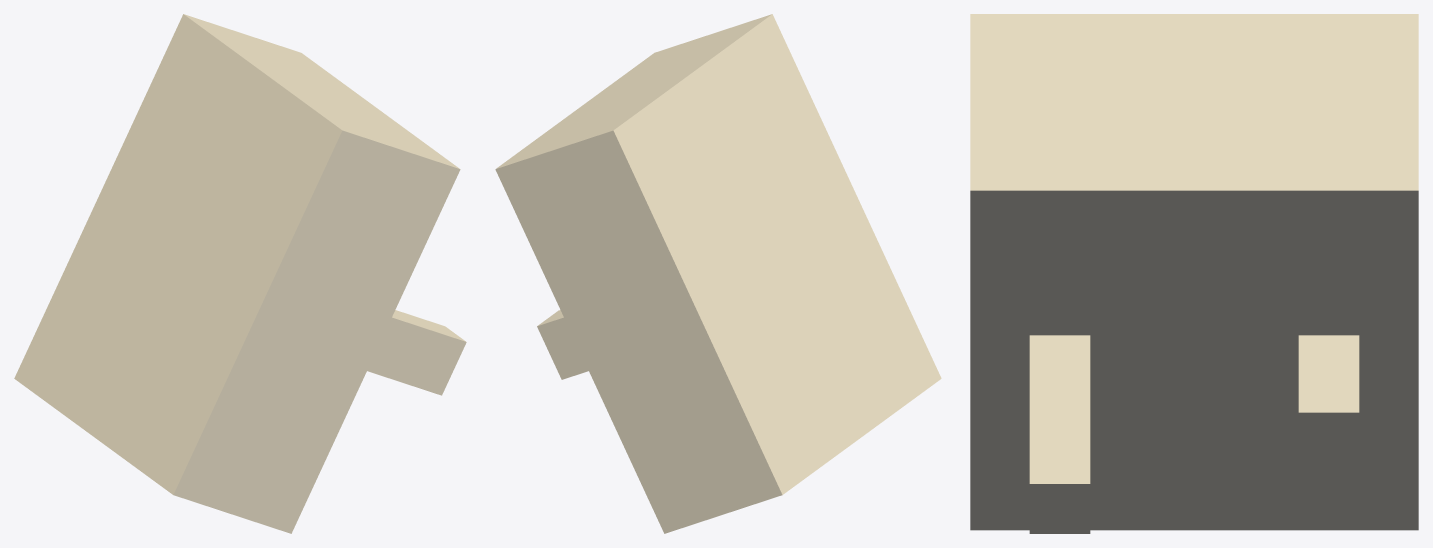
File: BRAT_M6_TURRET_R_01.glb
3 views of the same model, side by side, from view 1: azimuth 30°, elevation 25°; view 2: azimuth 150°, elevation 25°; view 3: azimuth 270°, elevation 25° (orthographic). The views are drawn at different scales.
Visible parts, largest first — view 1: BRAT_M6_TURRET_R_01.001; view 2: BRAT_M6_TURRET_R_01.001; view 3: BRAT_M6_TURRET_R_01.001.
Boxes of the visible parts, x1=… form: BRAT_M6_TURRET_R_01.001: x1=14, y1=14, x2=466, y2=533; BRAT_M6_TURRET_R_01.001: x1=495, y1=14, x2=941, y2=533; BRAT_M6_TURRET_R_01.001: x1=970, y1=14, x2=1418, y2=533.
Bounding box in the file's own units: 0.3036 × 0.3607 × 0.266.
